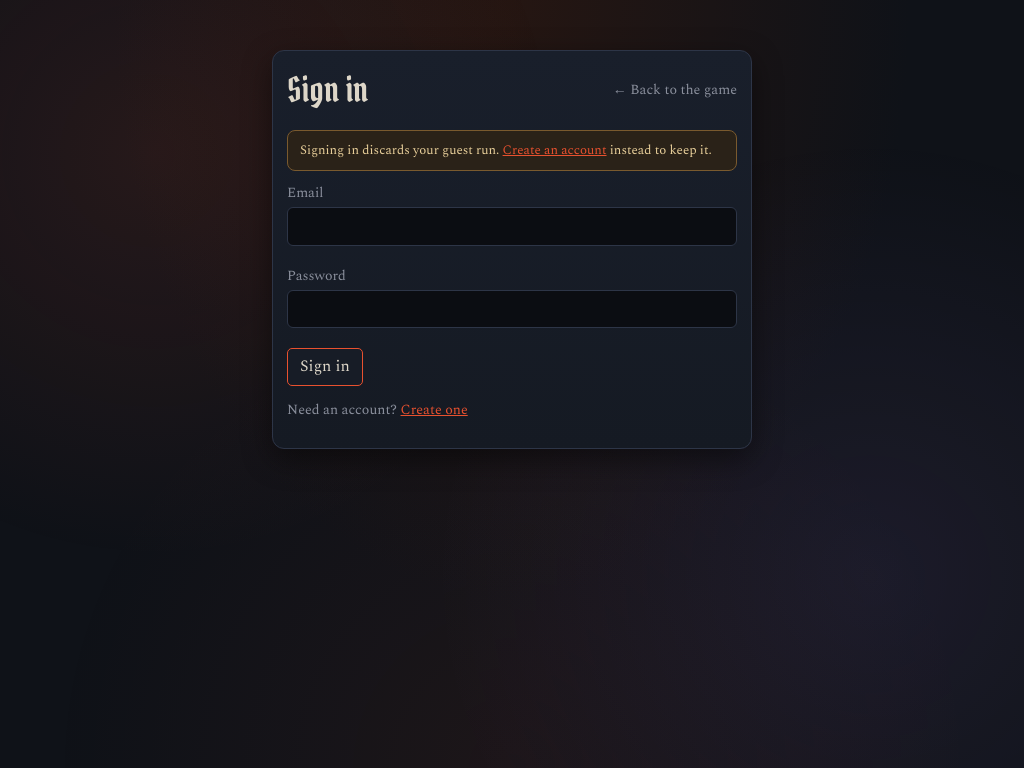
Test: login page › shows the server error for bad credentials
In the field labelled "Email": (512, 227) x1=287 y1=207 x2=737 y2=246, type "ash@example.com"
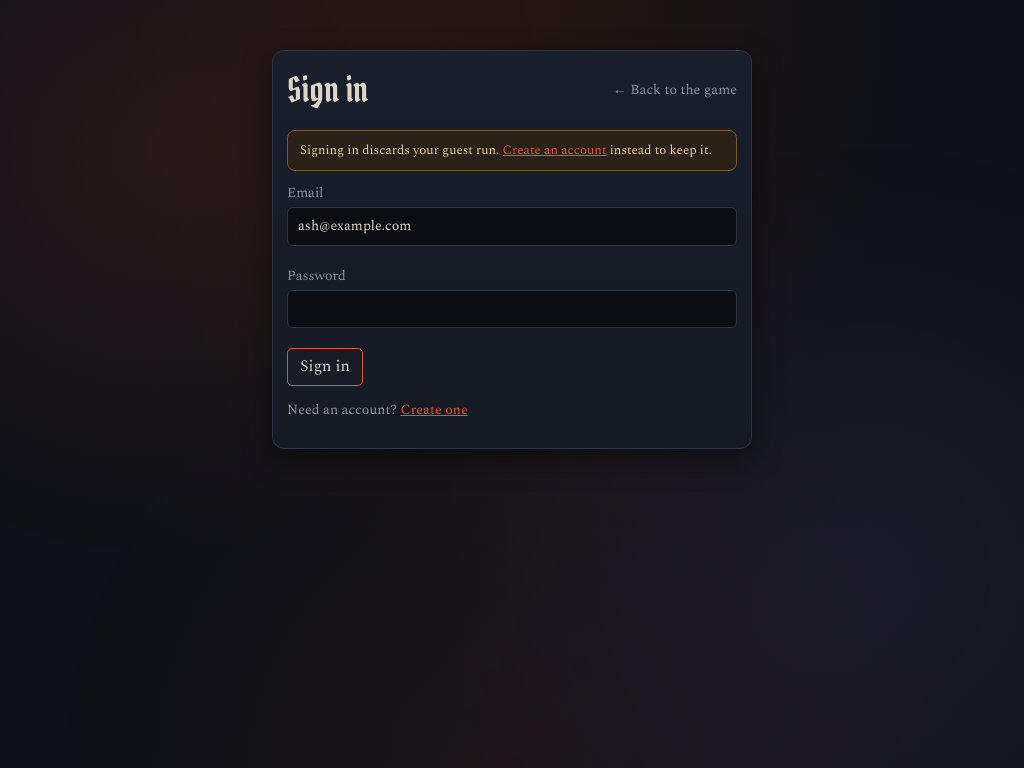
In the password field labelled "Password": (512, 309) x1=287 y1=290 x2=737 y2=328, type "wrong password"
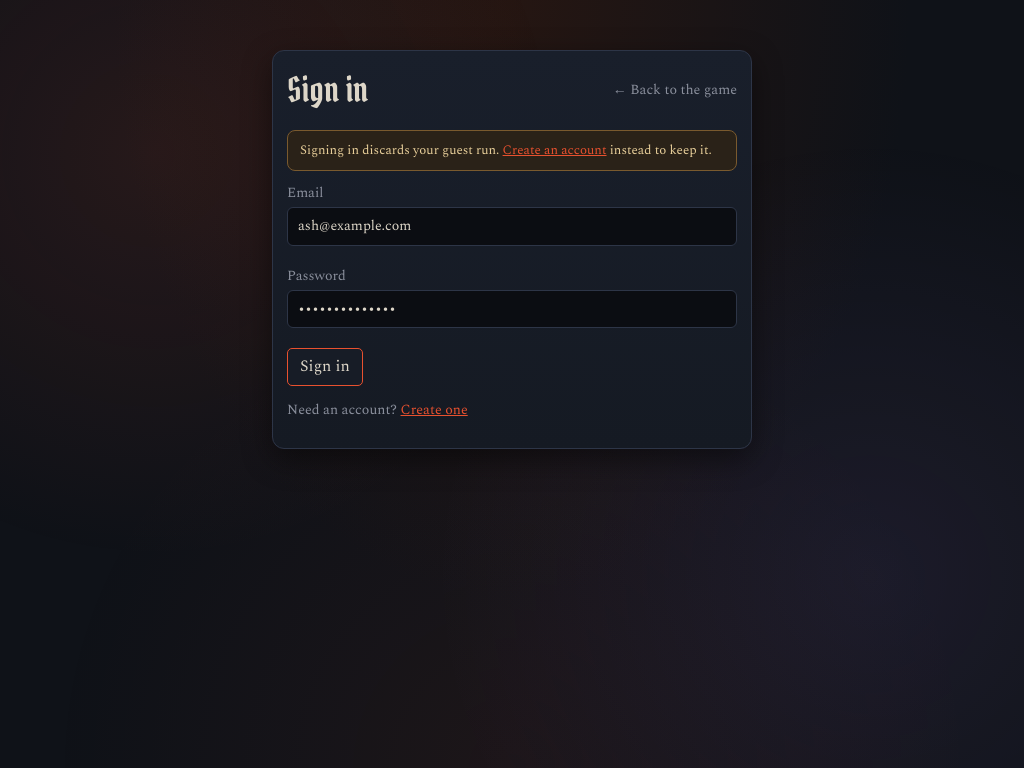
Click the button "Sign in": (325, 367) x1=287 y1=348 x2=363 y2=386
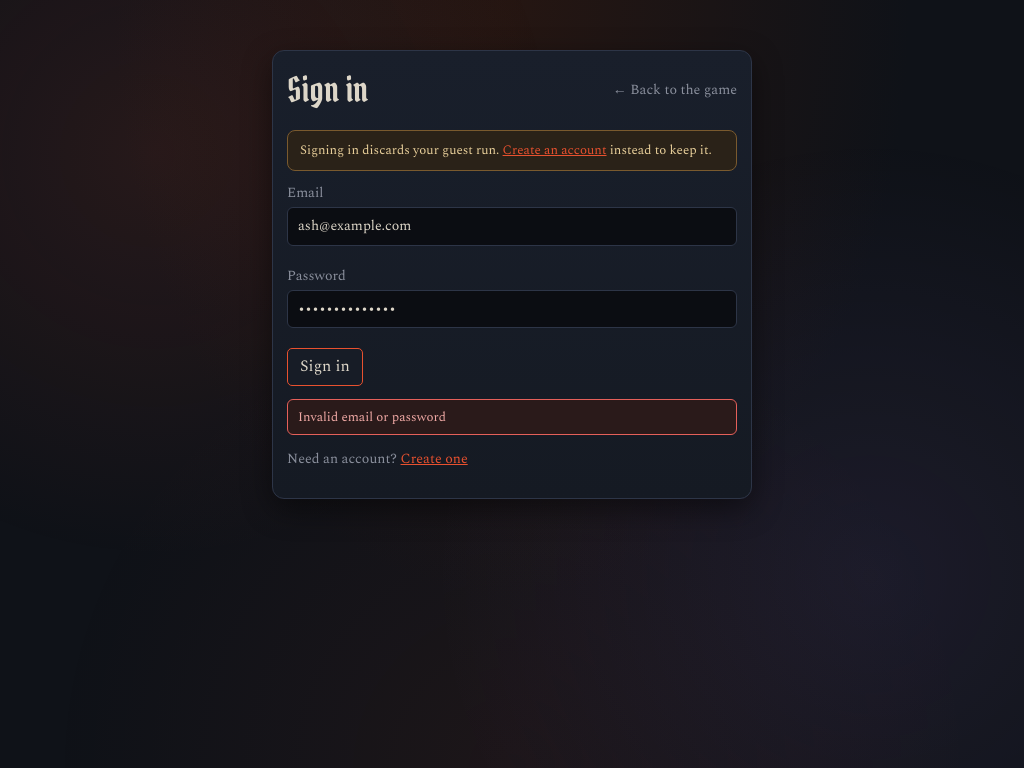
Check: the text "Invalid email or password" is shown, box x1=287 y1=398 x2=737 y2=435
